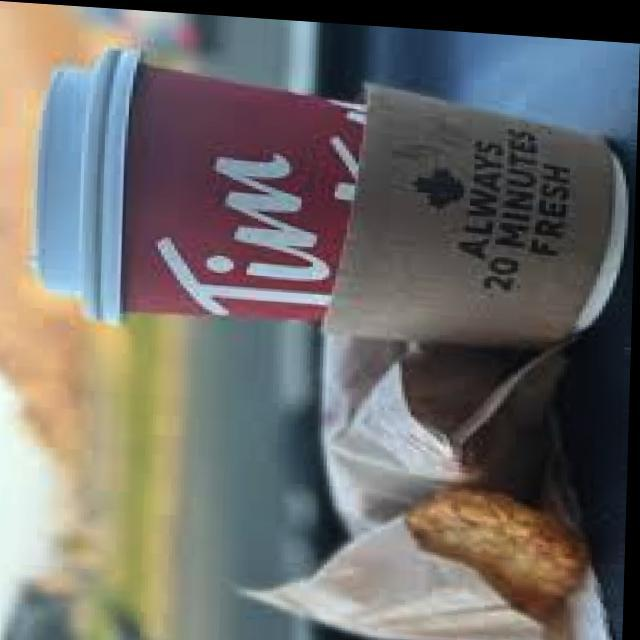timmies: (25, 36, 632, 347)
